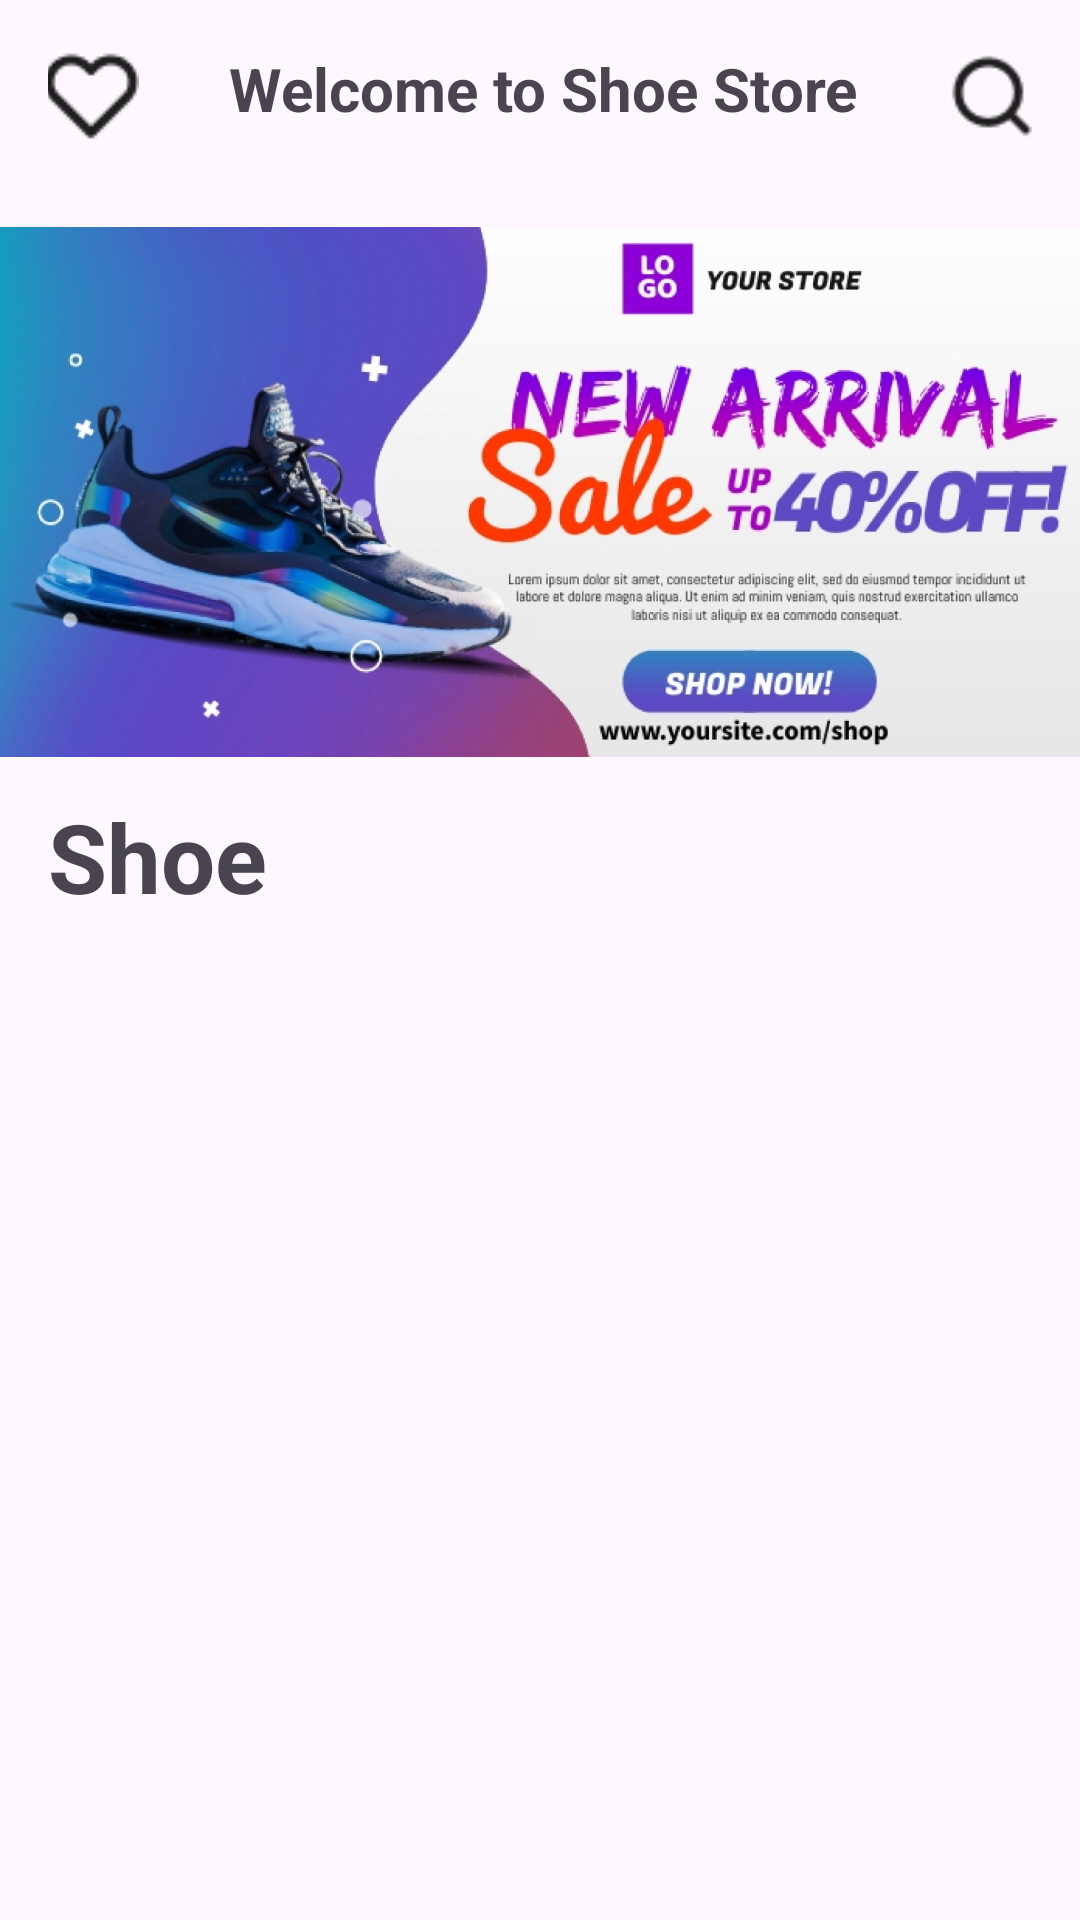

Icon click points for this 1080x1920 phone screenshot, format [x,y]:
heart: [93,96]
search: [992,96]
